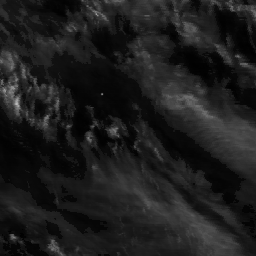Target: (100, 91, 104, 96)
